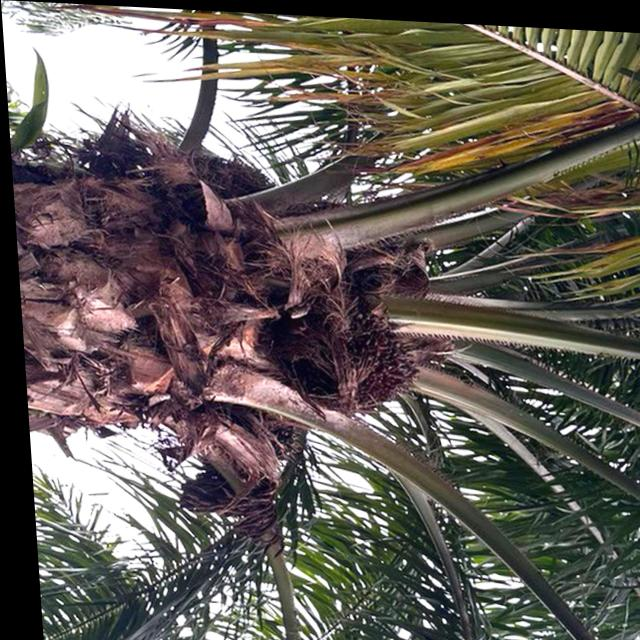ripe: (278, 286, 415, 411)
